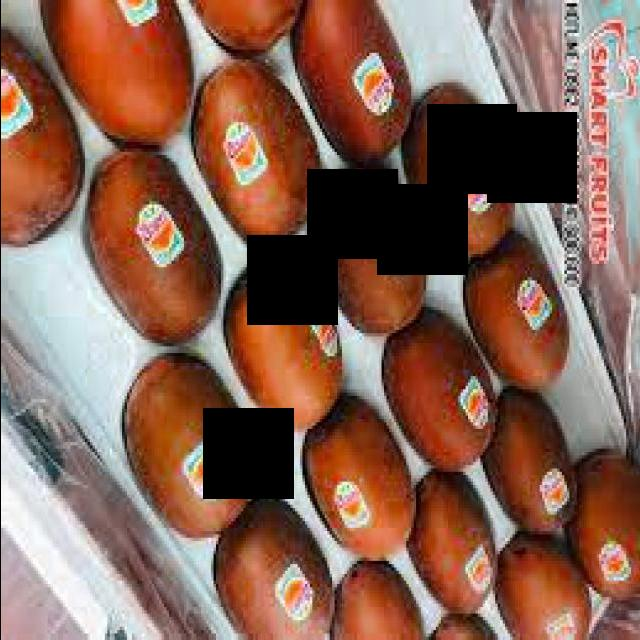kiwi: (85, 146, 223, 354), (122, 348, 258, 549), (194, 51, 325, 259), (36, 4, 199, 156), (224, 252, 345, 443), (377, 301, 498, 476), (291, 4, 419, 166), (402, 80, 518, 258), (303, 394, 419, 569), (318, 163, 429, 345), (206, 489, 337, 638), (4, 28, 83, 262), (466, 235, 575, 394), (407, 469, 503, 618), (483, 387, 577, 539), (565, 443, 639, 608), (490, 535, 594, 638), (332, 562, 429, 638)
